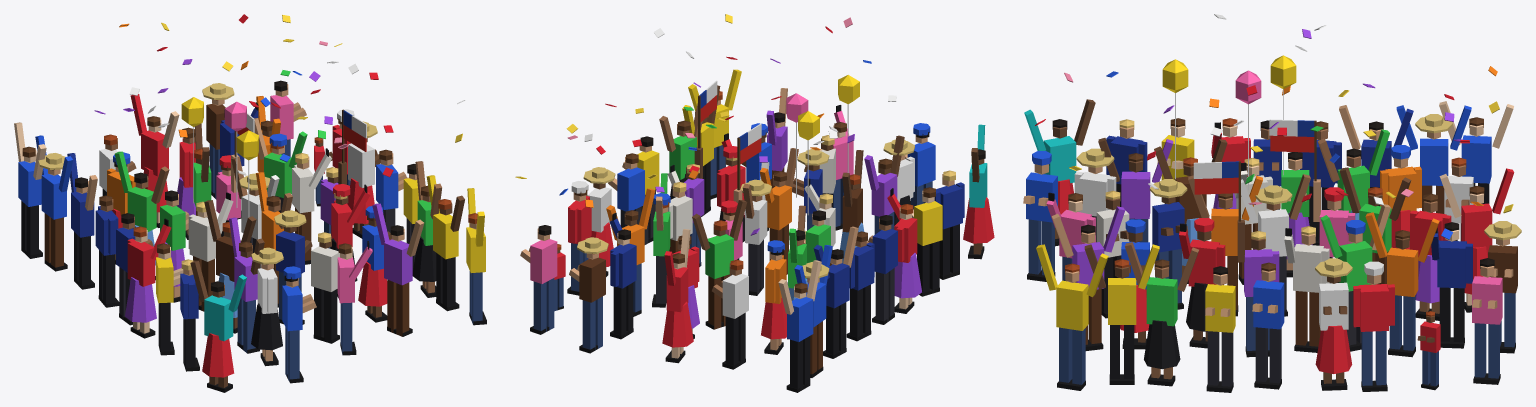
The model's file is multitud_fiesta_1.obj.
The picture shows the model from 3 angles, left to right: view 1: azimuth 30°, elevation 25°; view 2: azimuth 150°, elevation 25°; view 3: azimuth 270°, elevation 25°; orthographic projection. The views are drawn at different scales.
Visible parts, largest first — view 1: multitud_fiesta_1; view 2: multitud_fiesta_1; view 3: multitud_fiesta_1.
Boxes of the visible parts, x1,y1,x2,y2 form: multitud_fiesta_1: [14, 14, 486, 392]; multitud_fiesta_1: [515, 14, 994, 392]; multitud_fiesta_1: [1023, 14, 1521, 392].
Size of the model in its own units: 5.05 by 3.38 by 6.37.
